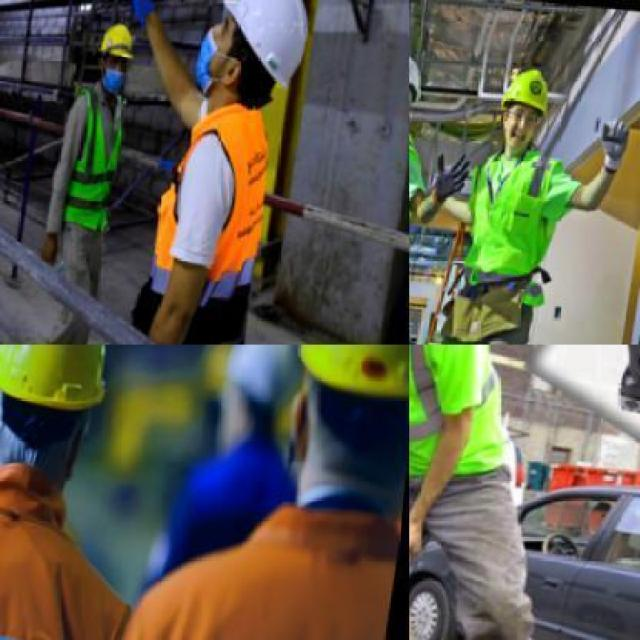Vest: (135, 454, 408, 638), (141, 94, 294, 343), (0, 444, 151, 638), (409, 345, 545, 480), (457, 136, 563, 296), (71, 84, 143, 228), (409, 125, 434, 283)
